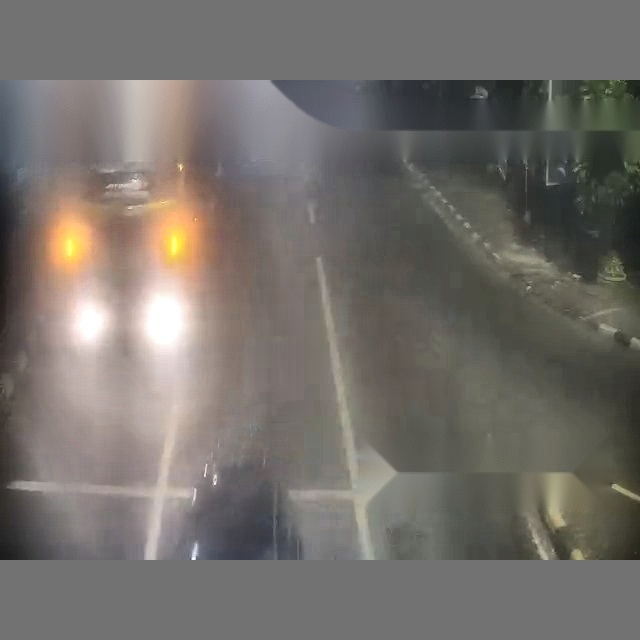Truk: (184, 74, 640, 557)
